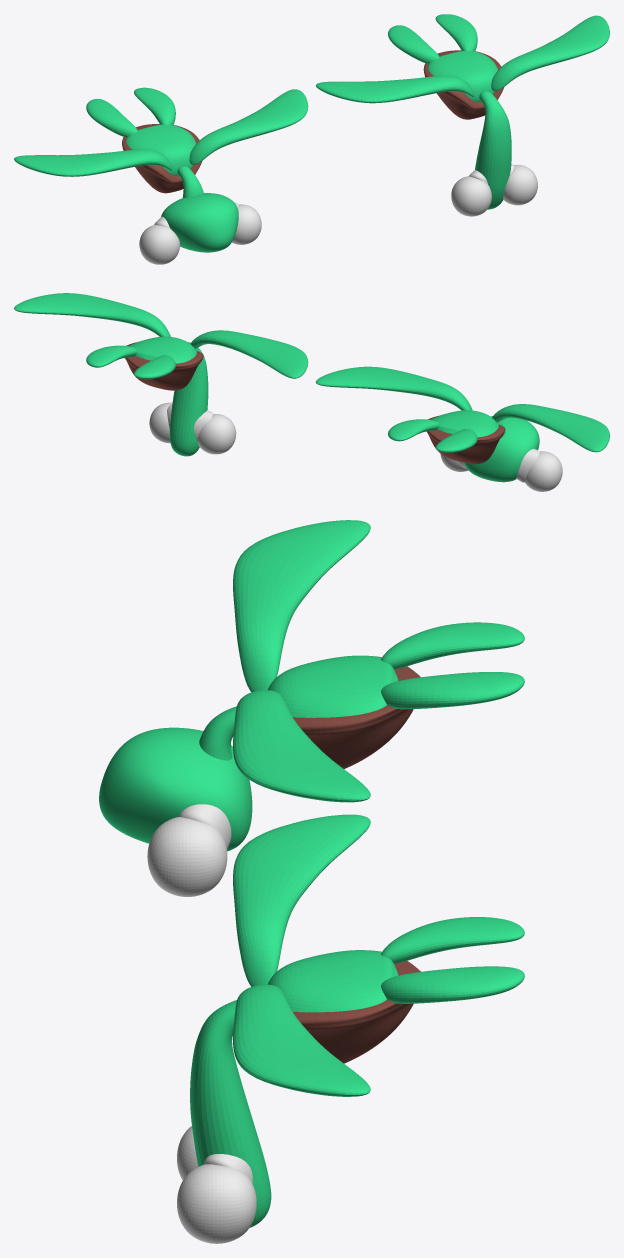
The model's file is turt_blocks_v1.fbx.
3 renders of one model, top to bottom at view 1: azimuth 30°, elevation 25°; view 2: azimuth 150°, elevation 25°; view 3: azimuth 270°, elevation 25°, orthographic. The views are drawn at different scales.
Parts seen in each view (by area): view 1: Cube.004, Cube.002, Cube.022, Cube.008, Cube.007, Cube.025, Cube.019; view 2: Cube.002, Cube.004, Cube.008, Cube.022, Cube.007, Cube.025, Cube.028, Cube.009; view 3: Cube.004, Cube.002, Cube.022, Cube.008, Cube.007, Cube.025, Cube.019, Cube.028.
Boxes of the visible parts, x1,y1,x2,y2 form: Cube.004: [316, 14, 609, 119]; Cube.002: [14, 87, 308, 193]; Cube.022: [161, 193, 238, 252]; Cube.008: [475, 91, 511, 209]; Cube.007: [451, 164, 537, 216]; Cube.025: [139, 204, 261, 264]; Cube.019: [177, 166, 203, 197]; Cube.002: [316, 366, 609, 464]; Cube.004: [14, 293, 308, 390]; Cube.008: [169, 342, 208, 456]; Cube.022: [464, 416, 539, 482]; Cube.007: [149, 402, 236, 454]; Cube.025: [440, 451, 562, 491]; Cube.028: [458, 449, 540, 482]; Cube.009: [167, 404, 213, 441]; Cube.004: [233, 814, 524, 1096]; Cube.002: [233, 520, 524, 802]; Cube.022: [99, 727, 252, 851]; Cube.008: [190, 1000, 271, 1227]; Cube.007: [177, 1126, 256, 1243]; Cube.025: [147, 817, 227, 896]; Cube.019: [199, 706, 236, 760]; Cube.028: [179, 804, 231, 849].
Bounding box in the file's own units: 1319 × 297 × 414.
